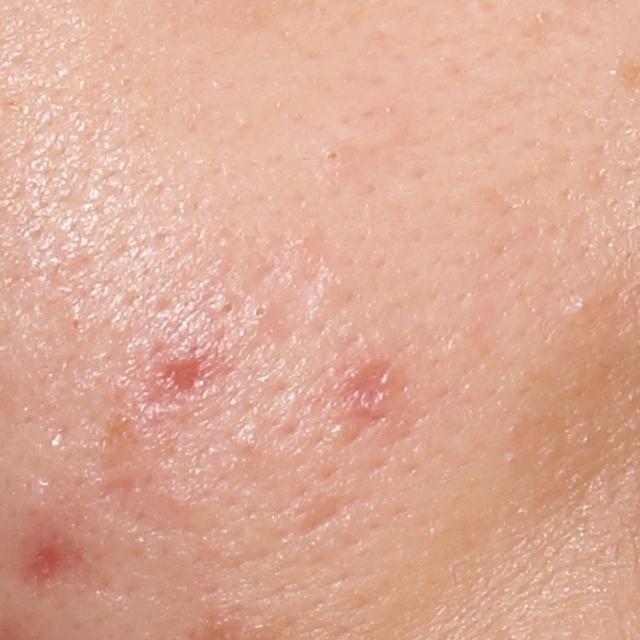atrophic_scar: (99, 407, 208, 536), (302, 495, 356, 536), (346, 359, 389, 407)
comedo: (566, 293, 594, 319), (215, 301, 239, 319), (249, 304, 270, 323), (322, 148, 343, 165)
